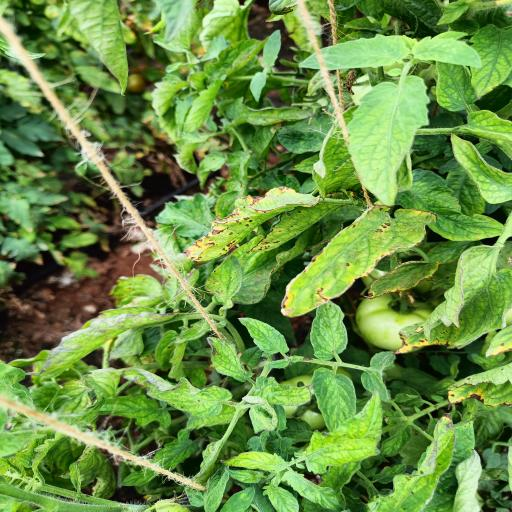Early Blight: (279, 204, 440, 323), (390, 244, 512, 356), (178, 186, 319, 264), (441, 362, 512, 413)
